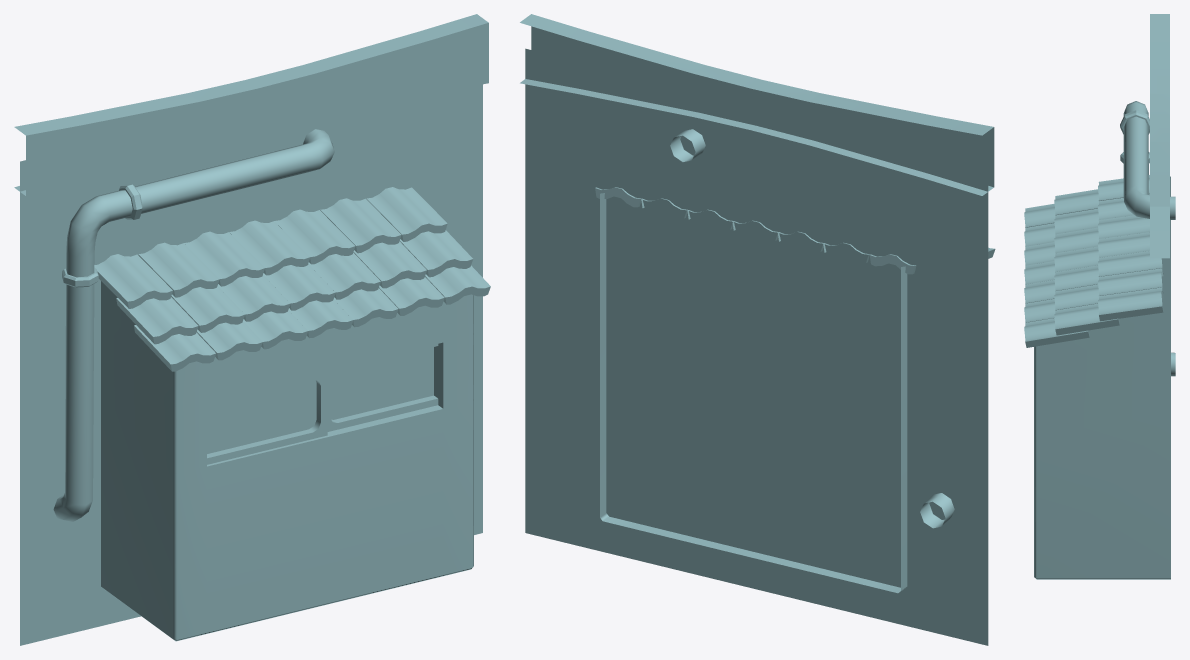
The model's file is Balcony_1.fbx.
3 views of the same model, side by side, from view 1: azimuth 30°, elevation 25°; view 2: azimuth 150°, elevation 25°; view 3: azimuth 270°, elevation 25° (orthographic). The views are drawn at different scales.
Visible parts, largest first — view 1: Balcony_1; view 2: Balcony_1; view 3: Balcony_1.
Boxes of the visible parts, left/top/right/bottom form: Balcony_1: left=14, top=14, right=490, bottom=645; Balcony_1: left=520, top=14, right=995, bottom=645; Balcony_1: left=1024, top=14, right=1175, bottom=579.
Size of the model in its own units: 4 by 4.25 by 1.33.
